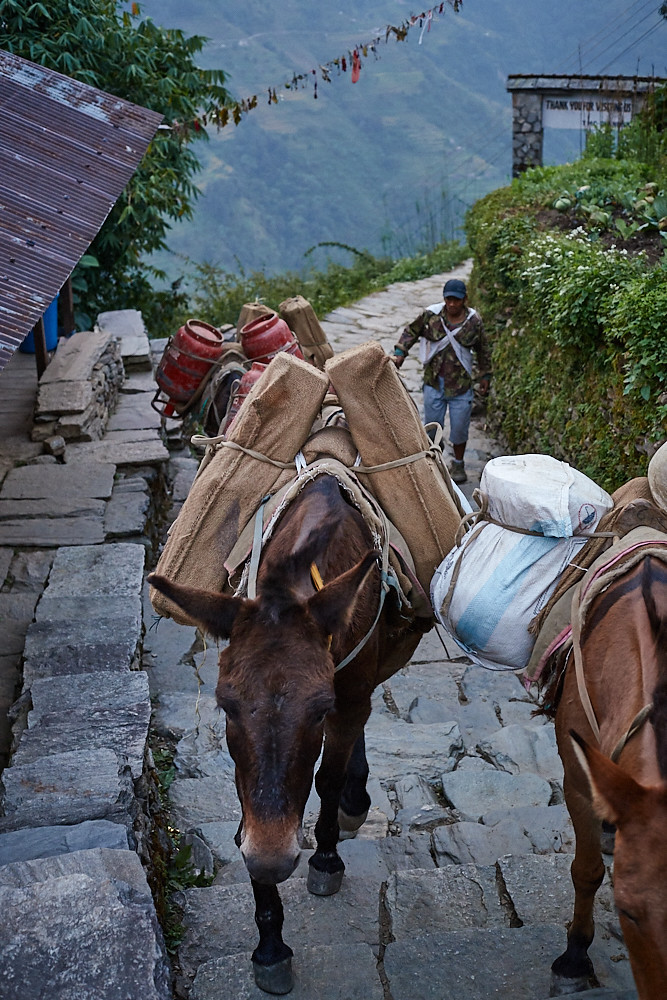equine: (159, 373, 443, 997), (489, 435, 667, 1000)
human: (383, 269, 505, 503)
